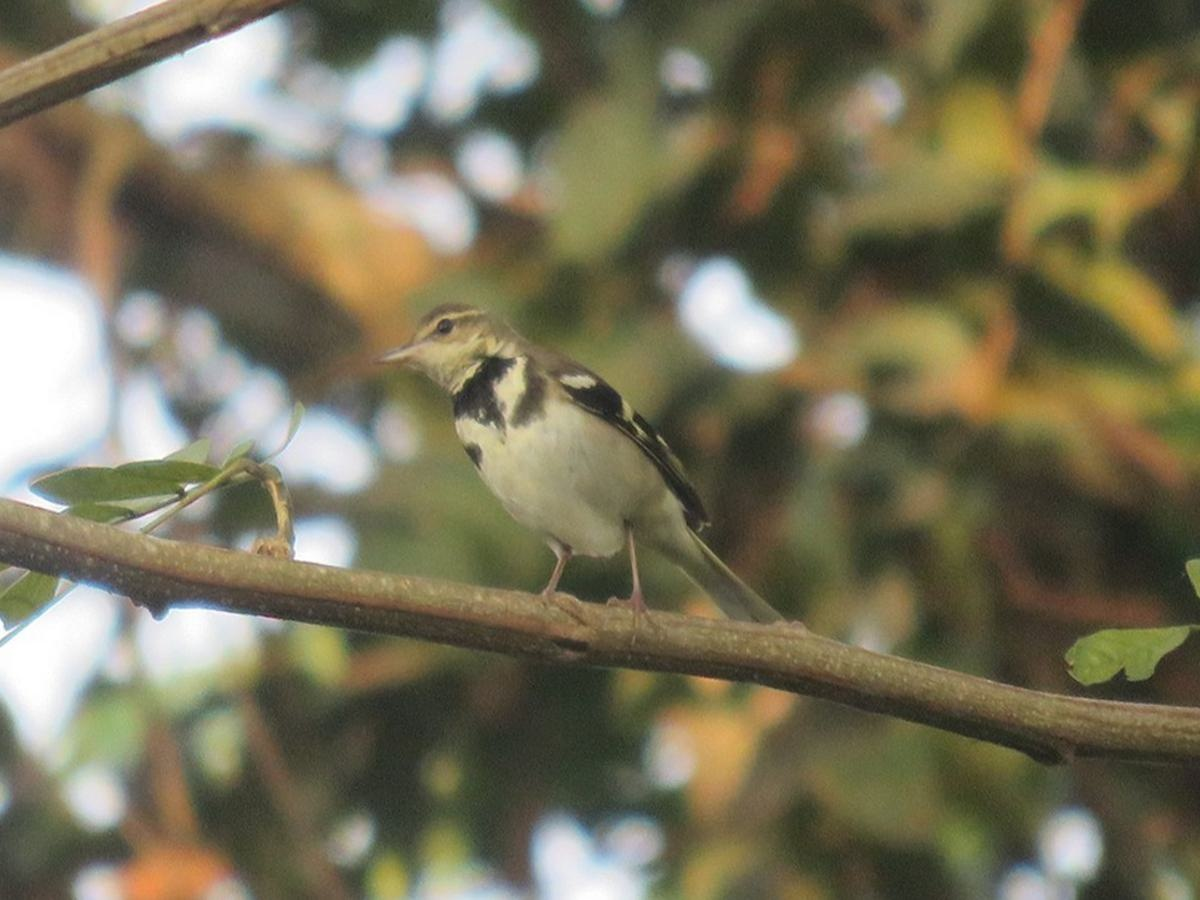wagtail: (386, 234, 791, 654)
